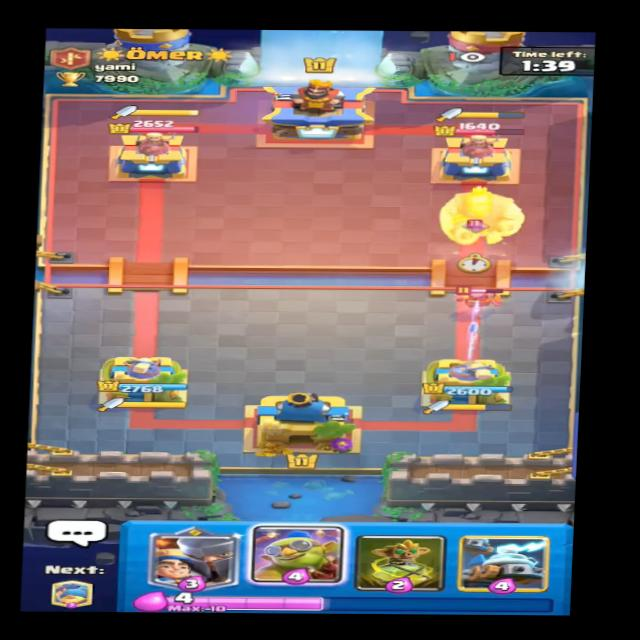mini-pekka: (450, 280, 515, 313)
royal-giant: (424, 185, 531, 248)
